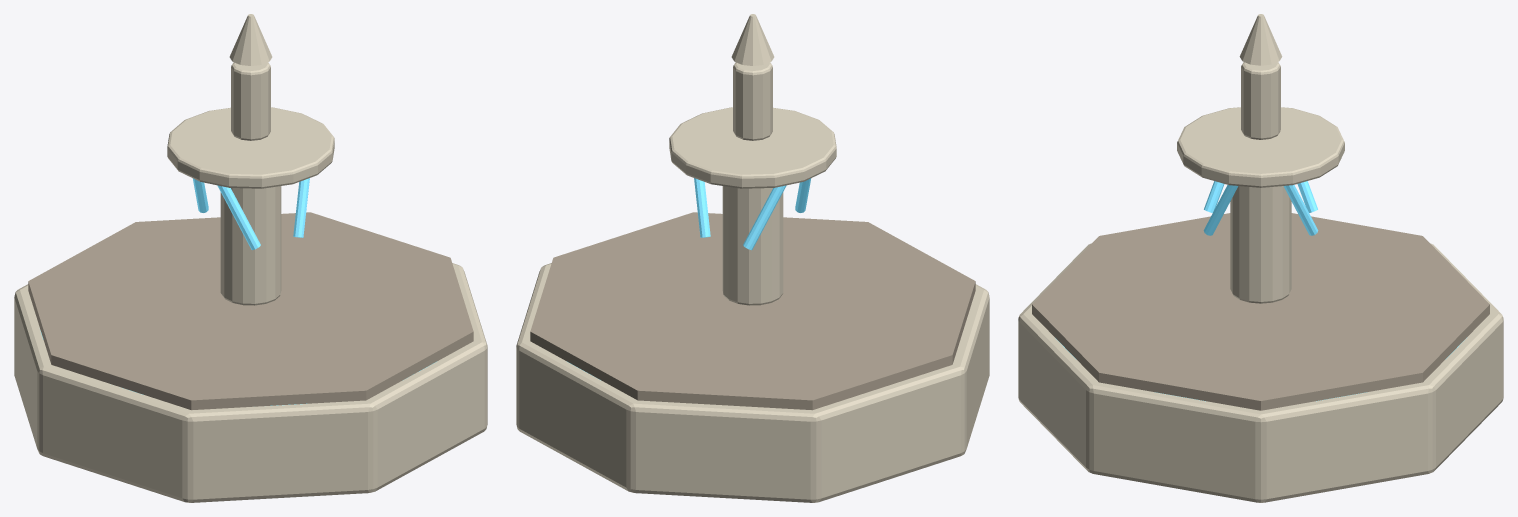
File: fountain.glb
3 renders of one model, left to right at view 1: azimuth 30°, elevation 25°; view 2: azimuth 150°, elevation 25°; view 3: azimuth 270°, elevation 25°, orthographic.
Parts seen in each view (by area): view 1: Fountain; view 2: Fountain; view 3: Fountain.
Boxes of the visible parts, bbox=[...] form: Fountain: bbox=[14, 14, 487, 502]; Fountain: bbox=[516, 14, 989, 502]; Fountain: bbox=[1018, 14, 1503, 502].
Bounding box in the file's own units: 3.18 × 2.8 × 3.18.
